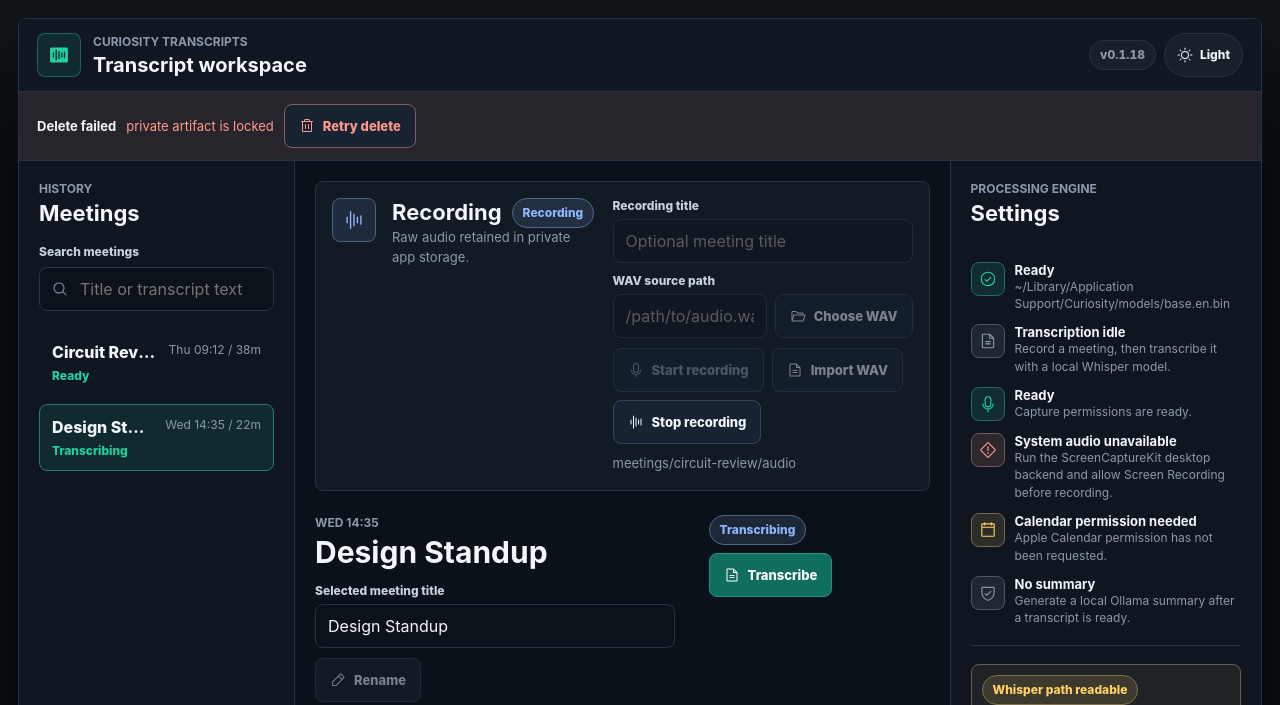
Test: desktop workspace shell › retries a failed delete through the preserved command meeting id
The image size is (1280, 705).
expect the heading "Design Standup" is shown: met, box 315,534 -> 548,570
Click the button "Retry delete" at (350, 126), box 284,104 -> 416,148
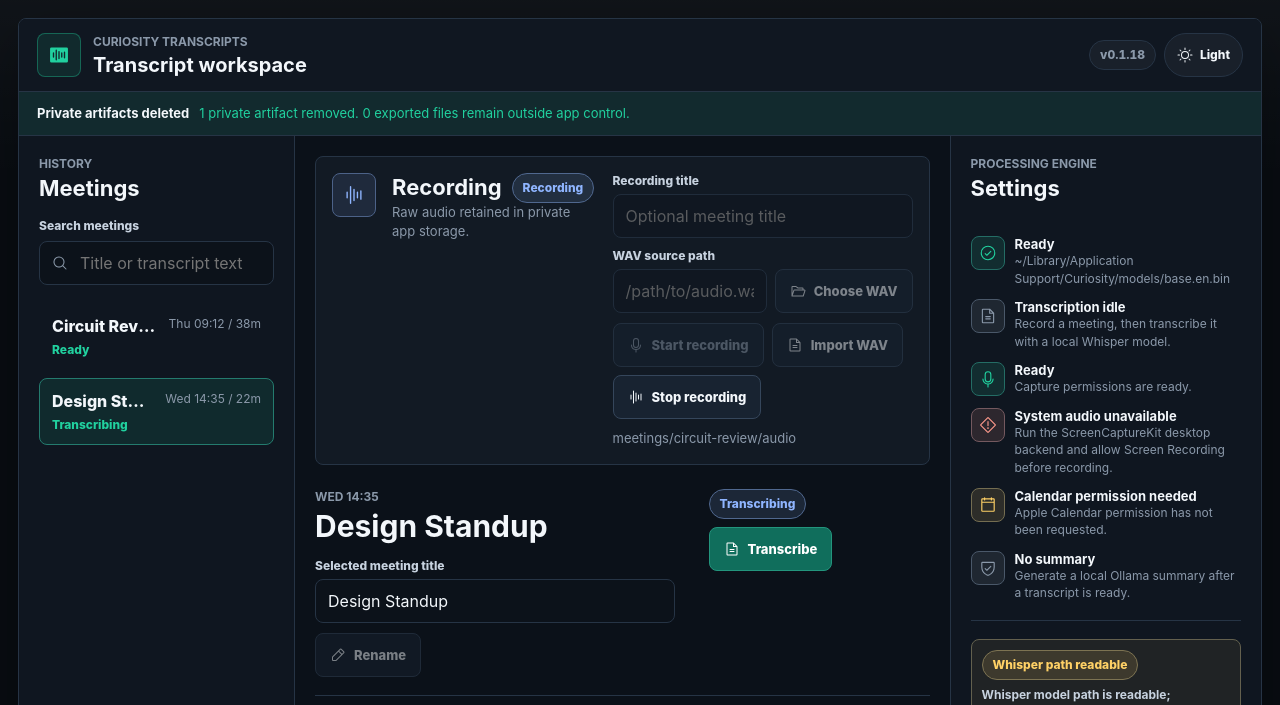
expect the text "Private artifacts deleted" is shown: met, box 37,104 -> 189,123
